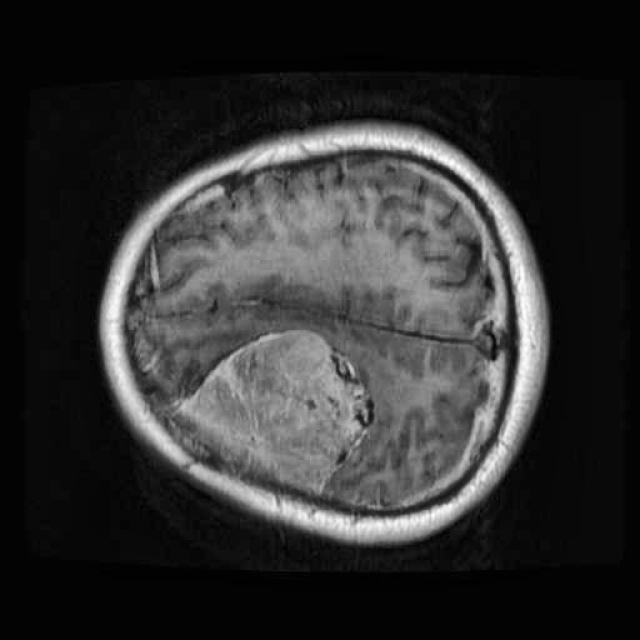Tumor: (153, 310, 383, 505)
